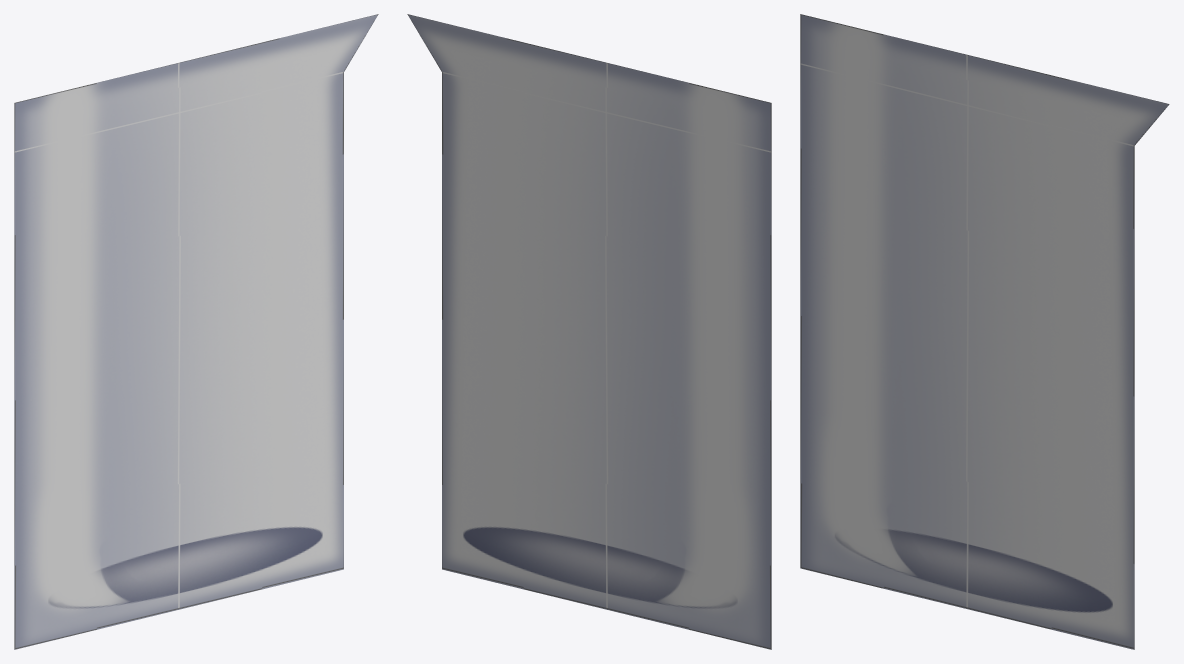
Rendered from SM_beaker.FBX.
The picture shows the model from 3 angles, left to right: view 1: azimuth 30°, elevation 25°; view 2: azimuth 150°, elevation 25°; view 3: azimuth 330°, elevation 25°; orthographic projection.
Visible parts, largest first — view 1: beaker; view 2: beaker; view 3: beaker.
Part boxes in pixels (<box>): beaker: <box>14,14,378,649</box>; beaker: <box>407,14,771,649</box>; beaker: <box>800,14,1169,649</box>.
Size of the model in its own units: 104 by 150 by 3.81e-06.
Materials: 1 (1 with a texture image).
